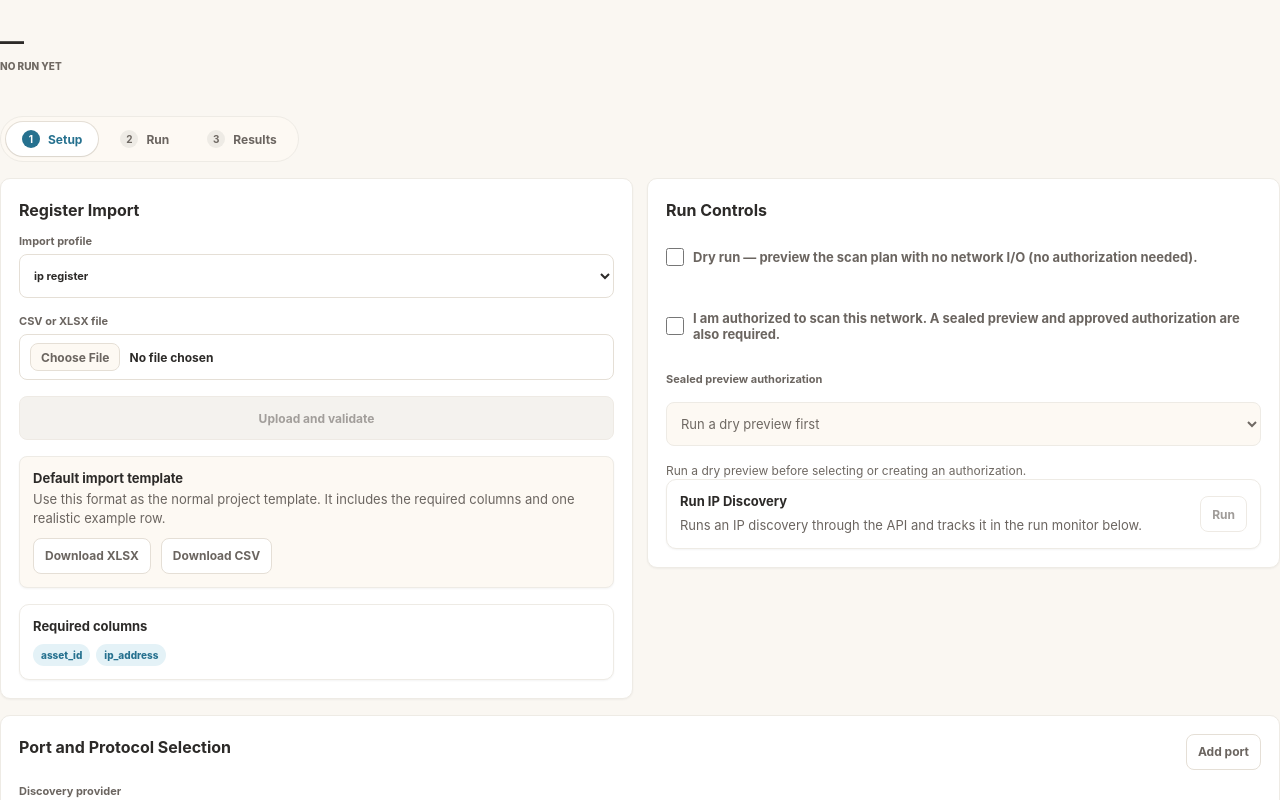
Test case: ModulePage discovery wiring › blocks a real scan until authorization is confirmed, then queues and renders live results
Expected: the button "Run" is disabled, [1200,496,1247,532]
Click the checkbox labelled "Dry run" at (675, 257), box [666,248,684,266]
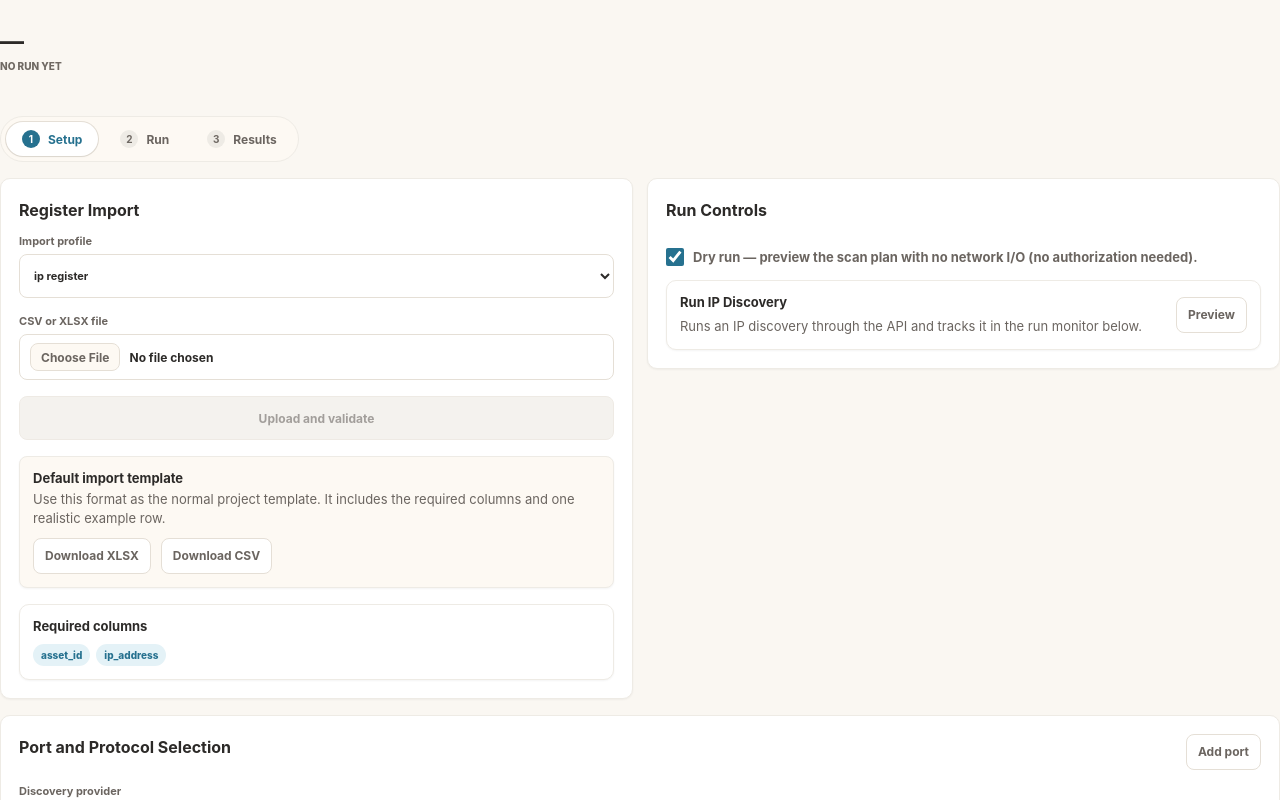
Expected: the button "Preview" is enabled
Click the button "Preview" at (1212, 315), box [1176,297,1247,333]
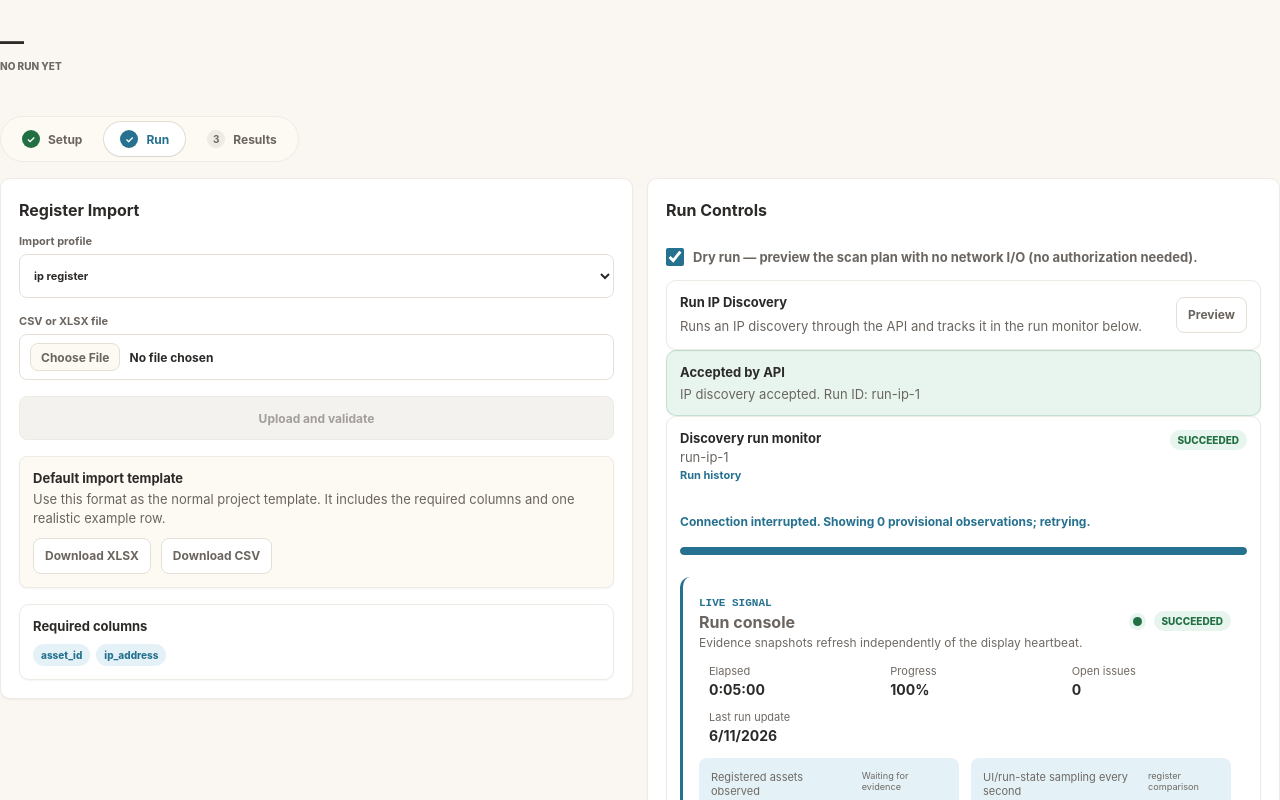
Expected: the text "IP discovery accepted. Run ID: run-ip-1" is shown, [680,386,920,402]
Click the checkbox labelled "Dry run" at (675, 257), box [666,248,684,266]
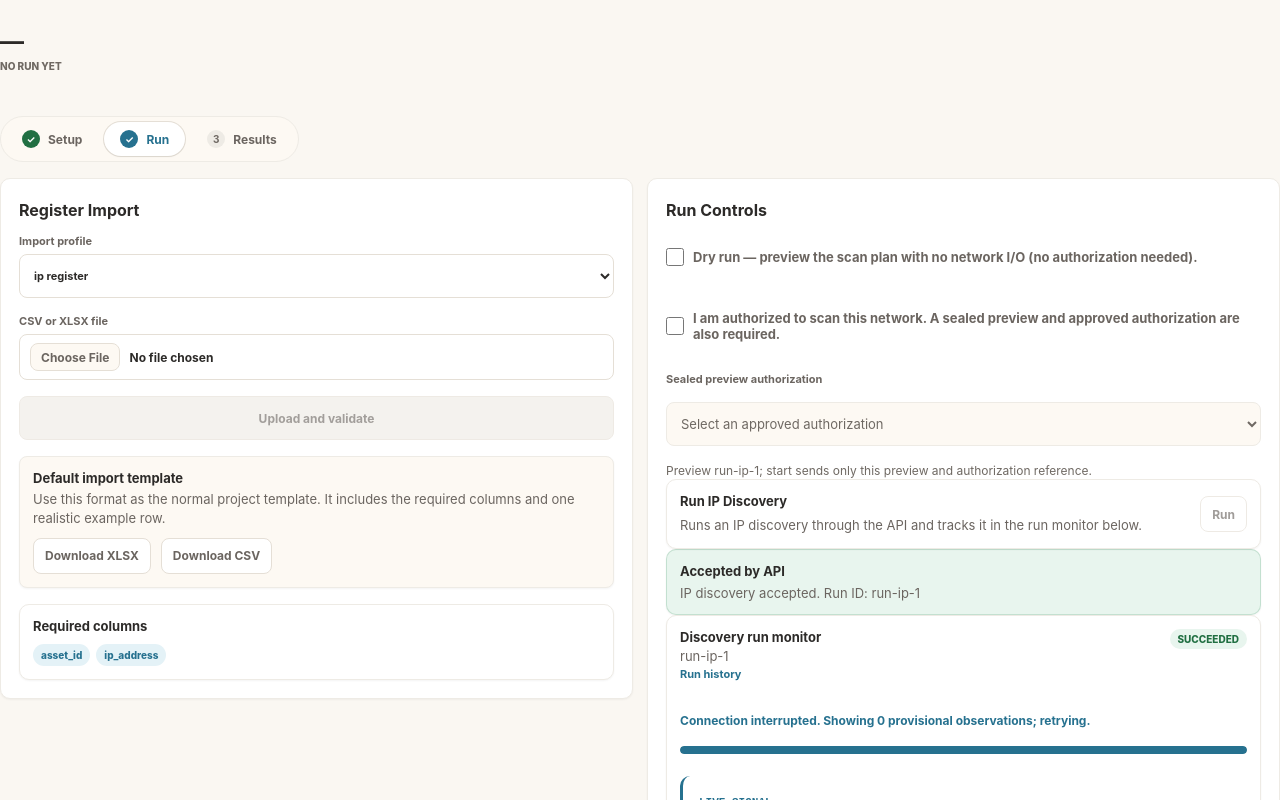
Click the checkbox labelled "I am authorized to scan this network" at (675, 326), box [666,317,684,335]
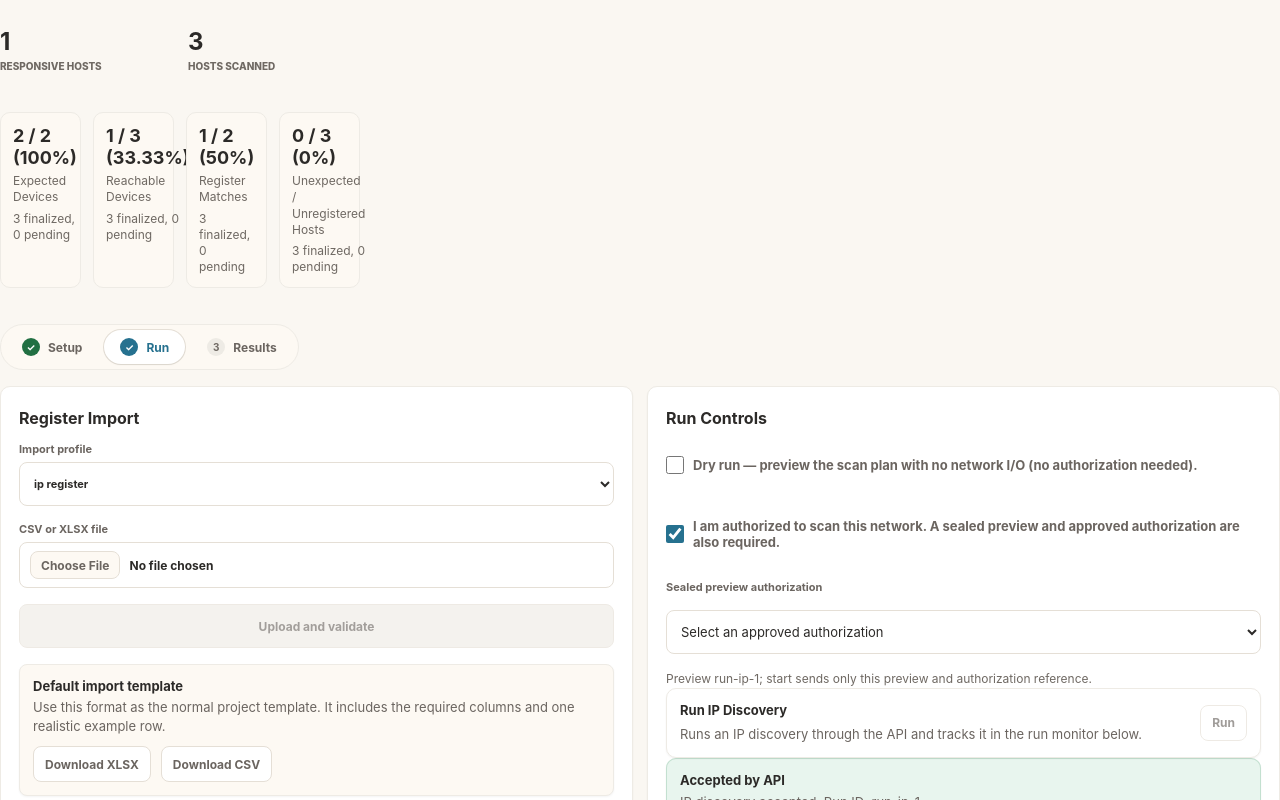
Expected: the dropdown labelled "Sealed preview authorization" is enabled
Select "auth-ip-1 · 0/1" in the dropdown labelled "Sealed preview authorization" at (964, 632), box [666,610,1261,654]
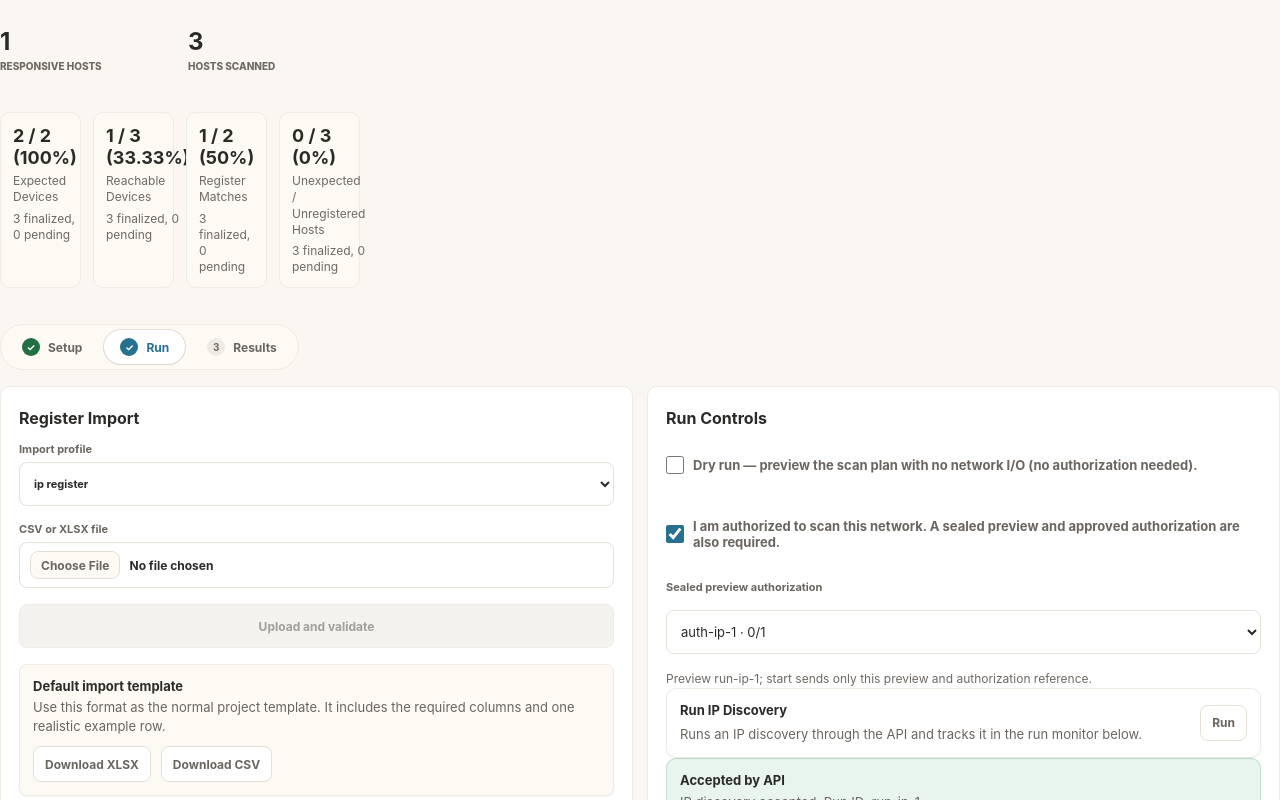
Expected: the button "Run" is enabled
Click the button "Run" at (1224, 723), box [1200,705,1247,741]
(page scrolled)
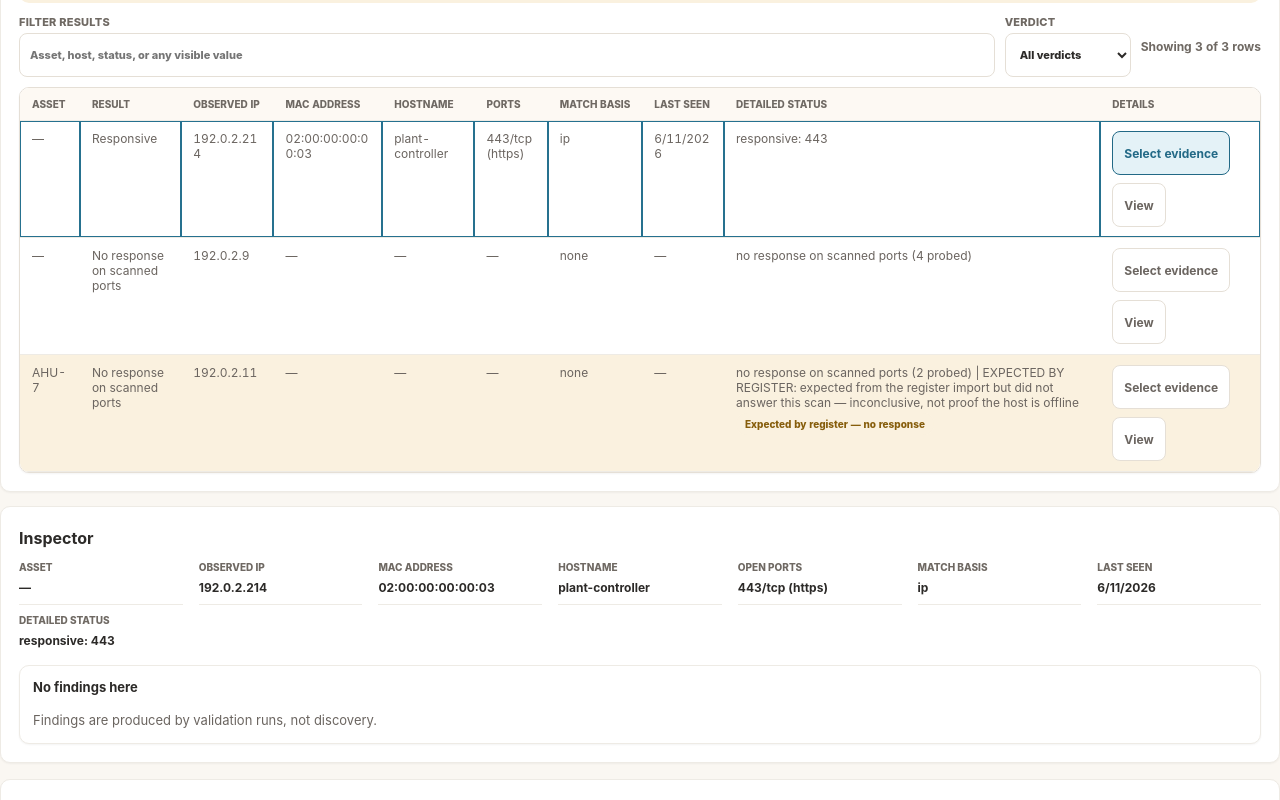
Expected: the text "plant-controller" is shown, [382,121,474,238]
Expected: the column heading "Result" is shown, [80,88,181,121]
Expected: the text "No response on scanned ports" next to "192.0.2.9" is shown, [92,248,164,293]
